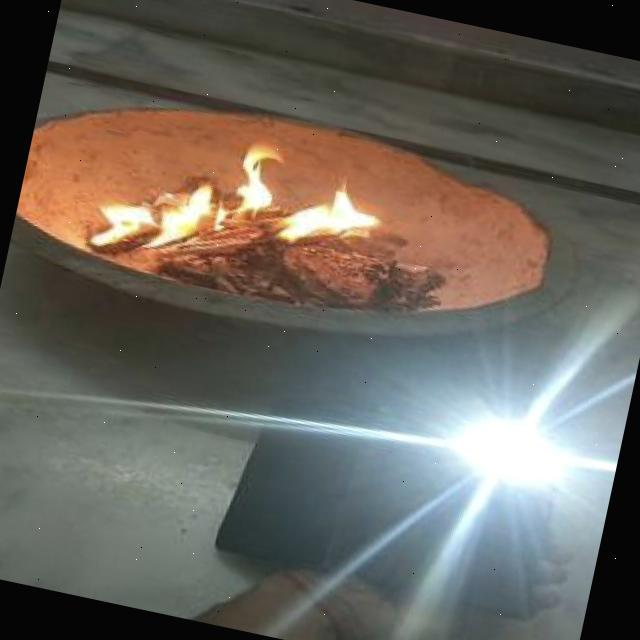fire: (93, 116, 396, 309)
